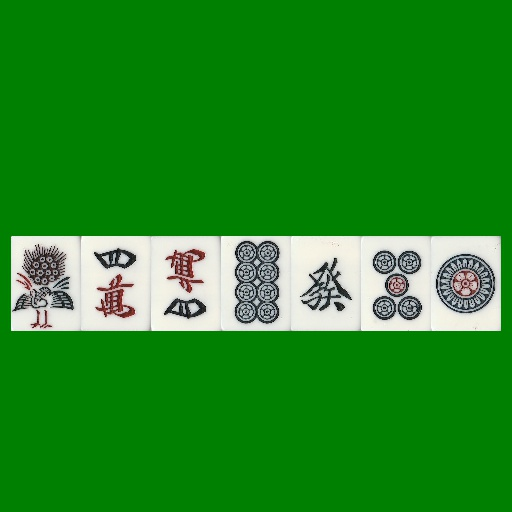1p: (431, 236, 501, 331)
1s: (11, 236, 81, 331)
4m: (81, 236, 151, 331), (151, 236, 221, 331)
5p: (361, 236, 431, 331)
8p: (221, 236, 291, 331)
hatsu: (291, 236, 361, 331)
